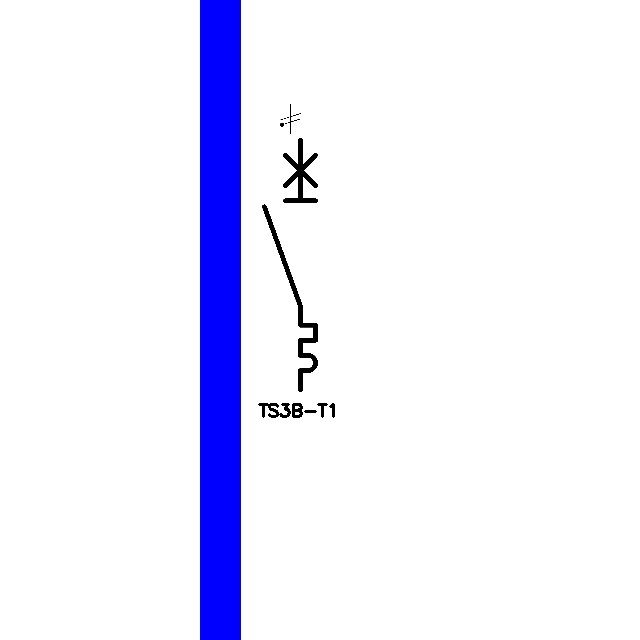interruptor_termomagnetico: (258, 133, 322, 395)
